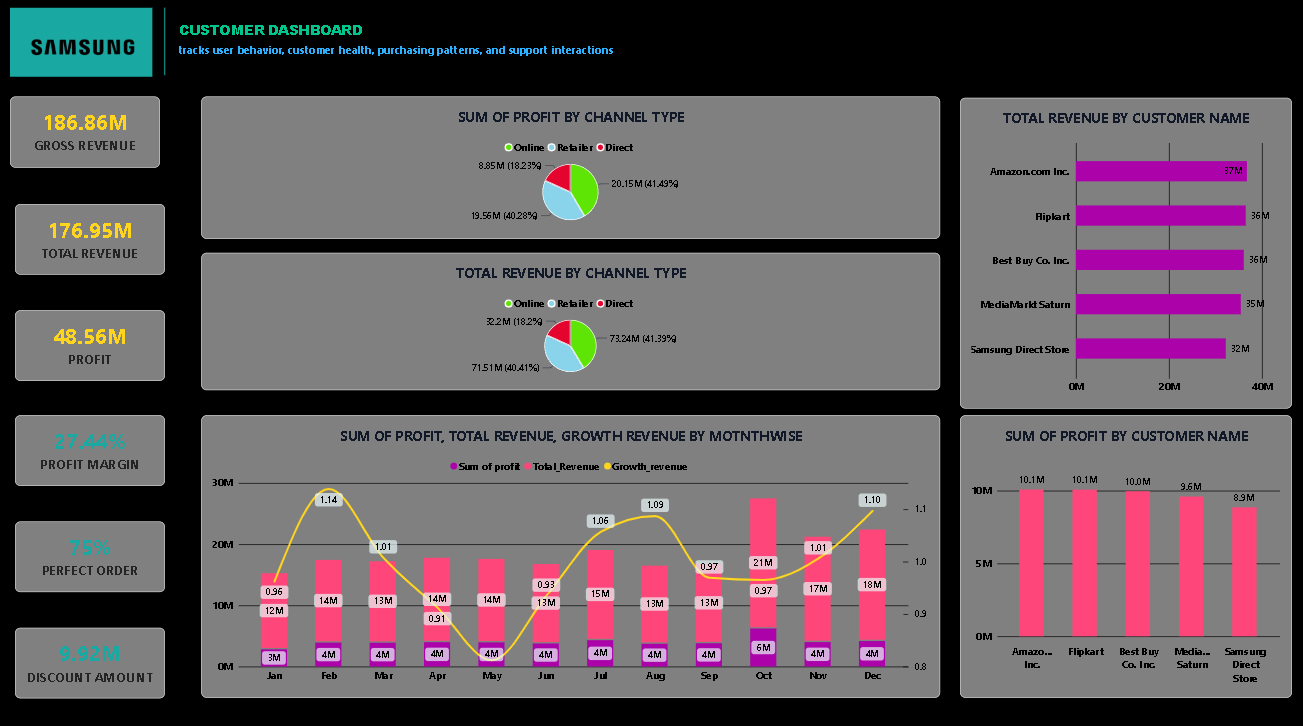

The page's visual inventory and layout, read from the dashboard file:
{"tool":"powerbi","page":{"name":"CUSTOMER","canvas":[1920,1080],"ordinal":5},"visuals":[{"type":"cardVisual","fields":{"Data":["MeasureTable.Total_Revenue"]},"box":[14.4,317.2,221,104],"z":0},{"type":"shape","box":[147.2,29.1,175.5,99.5],"z":1000},{"type":"image","box":[7.4,29.1,209.8,101.2],"z":2000},{"type":"textbox","title":"CUSTOMER DASHBOARD","box":[255,47,647.9,67],"z":3000},{"type":"cardVisual","fields":{"Data":["MeasureTable.Profit"]},"box":[14.4,473.6,221,104],"z":4000},{"type":"cardVisual","fields":{"Data":["MeasureTable.Profit_Margin%"]},"box":[14.4,630,221,104],"z":5000},{"type":"cardVisual","fields":{"Data":["MeasureTable.Perfect_Order%"]},"box":[14.4,786.4,221,104],"z":6000},{"type":"cardVisual","fields":{"Data":["Sum(fact_sales.gross_revenue)"]},"box":[7.2,159.8,221,105],"z":7000},{"type":"cardVisual","fields":{"Data":["Sum(fact_sales.discount_amount)"]},"box":[14.4,942.7,221,104],"z":8000},{"type":"pieChart","title":"TOTAL REVENUE BY CHANNEL TYPE","fields":{"Y":["MeasureTable.Total_Revenue"],"Category":["dim_customer.channel_type"]},"box":[289.4,389,1087.6,202.7],"z":9000},{"type":"pieChart","title":"SUM OF PROFIT BY CHANNEL TYPE","fields":{"Y":["Sum(fact_sales.profit)"],"Category":["dim_customer.channel_type"]},"box":[289.4,159.2,1087.6,209.9],"z":10000},{"type":"columnChart","title":"SUM OF PROFIT BY CUSTOMER NAME","fields":{"Category":["dim_customer.customer_name"],"Y":["Sum(fact_sales.profit)"]},"box":[1406,629.7,488.6,416.2],"z":11000},{"type":"clusteredBarChart","title":"TOTAL REVENUE BY CUSTOMER NAME","fields":{"Category":["dim_customer.customer_name"],"Y":["MeasureTable.Total_Revenue"]},"box":[1406,161,488.6,457.8],"z":12000},{"type":"lineStackedColumnComboChart","title":"SUM OF PROFIT, TOTAL REVENUE, GROWTH REVENUE BY MOTNTHWISE","fields":{"Category":["dim_date.Month_short"],"Y":["Sum(fact_sales.profit)","MeasureTable.Total_Revenue"],"Y2":["MeasureTable.Growth_revenue"]},"box":[289.4,629.7,1087.6,416.2],"z":13000}]}

Visuals, with their boxes in screenshot pixels (x1, y1, x2, y2), scaled from the page's 1920x1080 canvas onto the 1303x726 screenshot:
cardVisual - MeasureTable.Total_Revenue: [x1=10, y1=213, x2=160, y2=283]
shape: [x1=100, y1=20, x2=219, y2=86]
image: [x1=5, y1=20, x2=147, y2=88]
"CUSTOMER DASHBOARD" textbox: [x1=173, y1=32, x2=613, y2=77]
cardVisual - MeasureTable.Profit: [x1=10, y1=318, x2=160, y2=388]
cardVisual - MeasureTable.Profit_Margin%: [x1=10, y1=424, x2=160, y2=493]
cardVisual - MeasureTable.Perfect_Order%: [x1=10, y1=529, x2=160, y2=599]
cardVisual - Sum(fact_sales.gross_revenue): [x1=5, y1=107, x2=155, y2=178]
cardVisual - Sum(fact_sales.discount_amount): [x1=10, y1=634, x2=160, y2=704]
"TOTAL REVENUE BY CHANNEL TYPE" pieChart: [x1=196, y1=261, x2=934, y2=398]
"SUM OF PROFIT BY CHANNEL TYPE" pieChart: [x1=196, y1=107, x2=934, y2=248]
"SUM OF PROFIT BY CUSTOMER NAME" columnChart: [x1=954, y1=423, x2=1286, y2=703]
"TOTAL REVENUE BY CUSTOMER NAME" clusteredBarChart: [x1=954, y1=108, x2=1286, y2=416]
"SUM OF PROFIT, TOTAL REVENUE, GROWTH REVENUE BY MOTNTHWISE" lineStackedColumnComboChart: [x1=196, y1=423, x2=934, y2=703]
